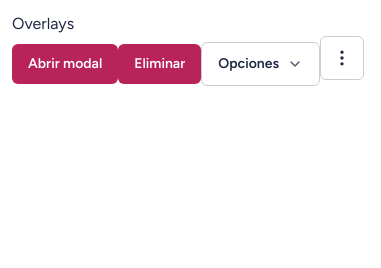
Test: PB-P2-031 · axe · Overlays › el menú desplegable abierto no tiene violaciones
The width and height of the screenshot is (381, 268).
Click the button "Opciones": (261, 64) [201,42,320,86]
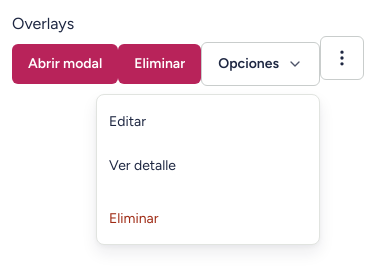
Result: the menu is shown at [96,94,320,245]
